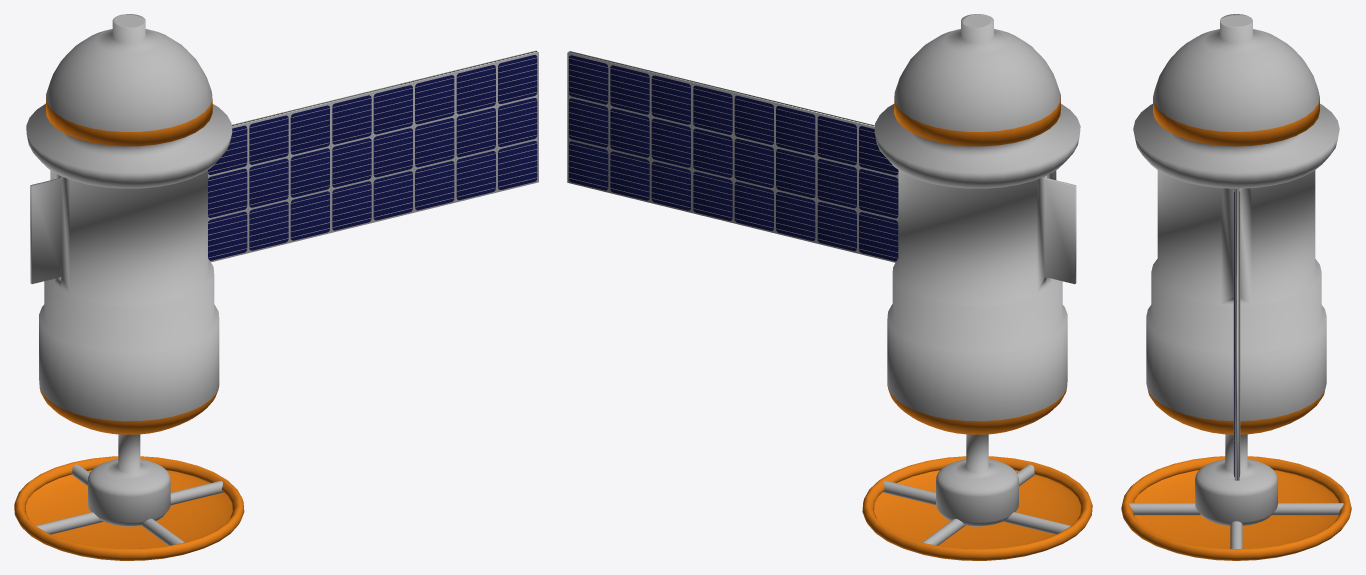
Rendered from satellite_1_1784487375125_model.glb.
3 renders of one model, left to right at view 1: azimuth 30°, elevation 25°; view 2: azimuth 150°, elevation 25°; view 3: azimuth 270°, elevation 25°, orthographic.
Parts seen in each view (by area): view 1: Sphere, Cube.001, Sphere.001, Cylinder.001, Cylinder; view 2: Sphere, Cube.001, Sphere.001, Cylinder.001, Cylinder; view 3: Sphere, Sphere.001, Cube.001, Cylinder, Cylinder.001.
Boxes of the visible parts, bbox=[...] form: Sphere: bbox=[26, 14, 232, 526]; Cube.001: bbox=[208, 50, 538, 262]; Sphere.001: bbox=[14, 456, 244, 560]; Cylinder.001: bbox=[36, 480, 223, 534]; Cylinder: bbox=[71, 464, 184, 545]; Sphere: bbox=[874, 14, 1080, 526]; Cube.001: bbox=[567, 51, 898, 262]; Sphere.001: bbox=[862, 456, 1092, 560]; Cylinder.001: bbox=[883, 481, 1070, 534]; Cylinder: bbox=[922, 464, 1034, 545]; Sphere: bbox=[1133, 14, 1339, 526]; Sphere.001: bbox=[1121, 456, 1351, 560]; Cube.001: bbox=[1233, 188, 1240, 480]; Cylinder: bbox=[1129, 503, 1343, 515]; Cylinder.001: bbox=[1230, 521, 1242, 548].
Size of the model in its own units: 6.9 by 6.57 by 2.71.
